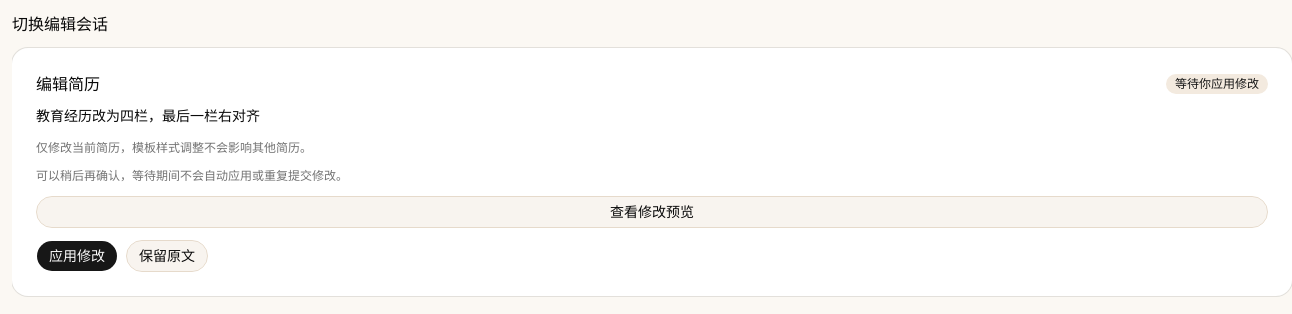
Test: editor request decisions › reports unchanged operations without registering or exposing undo for earlier user edits
Click the button "应用修改" at (77, 256), box 36,240 -> 118,272
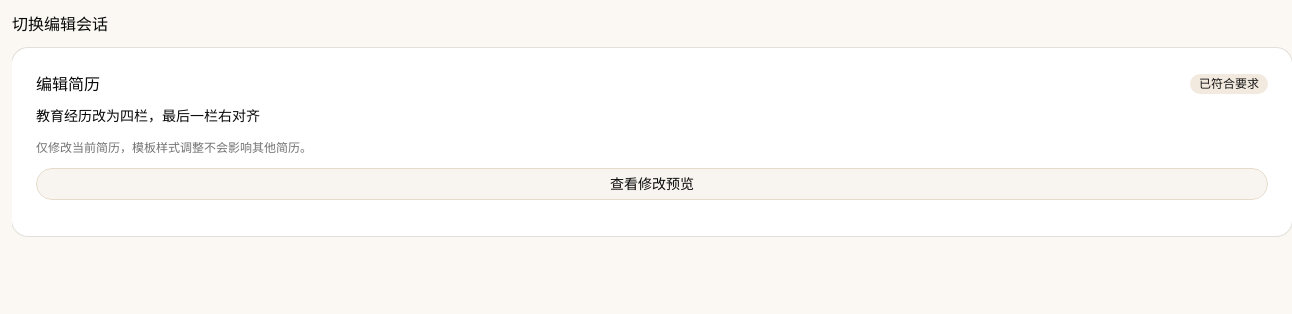
Expected: the text "已符合要求" is shown, 1190,74 -> 1268,94
